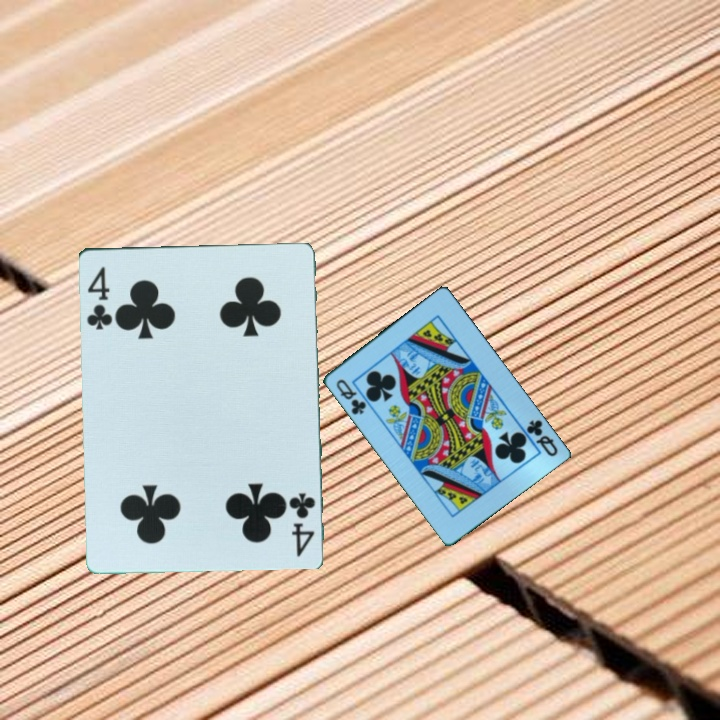4c: (82, 263, 115, 333), (286, 488, 317, 560)
Qc: (522, 416, 560, 459), (332, 375, 369, 418)
